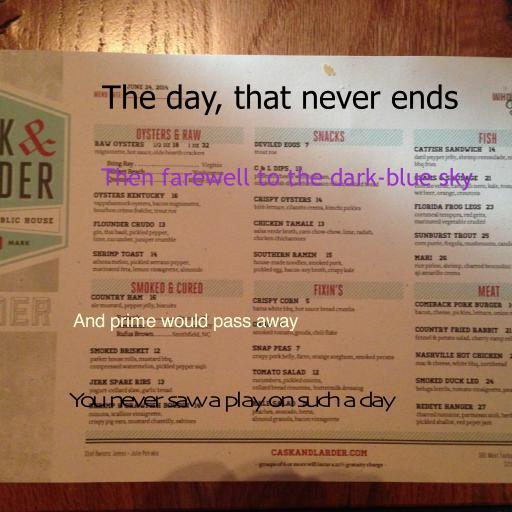Helvetica: (72, 313, 298, 332)
Skia: (69, 391, 393, 412)
Tahoma: (102, 84, 458, 116)
Trebuchet MS: (101, 167, 473, 191)
